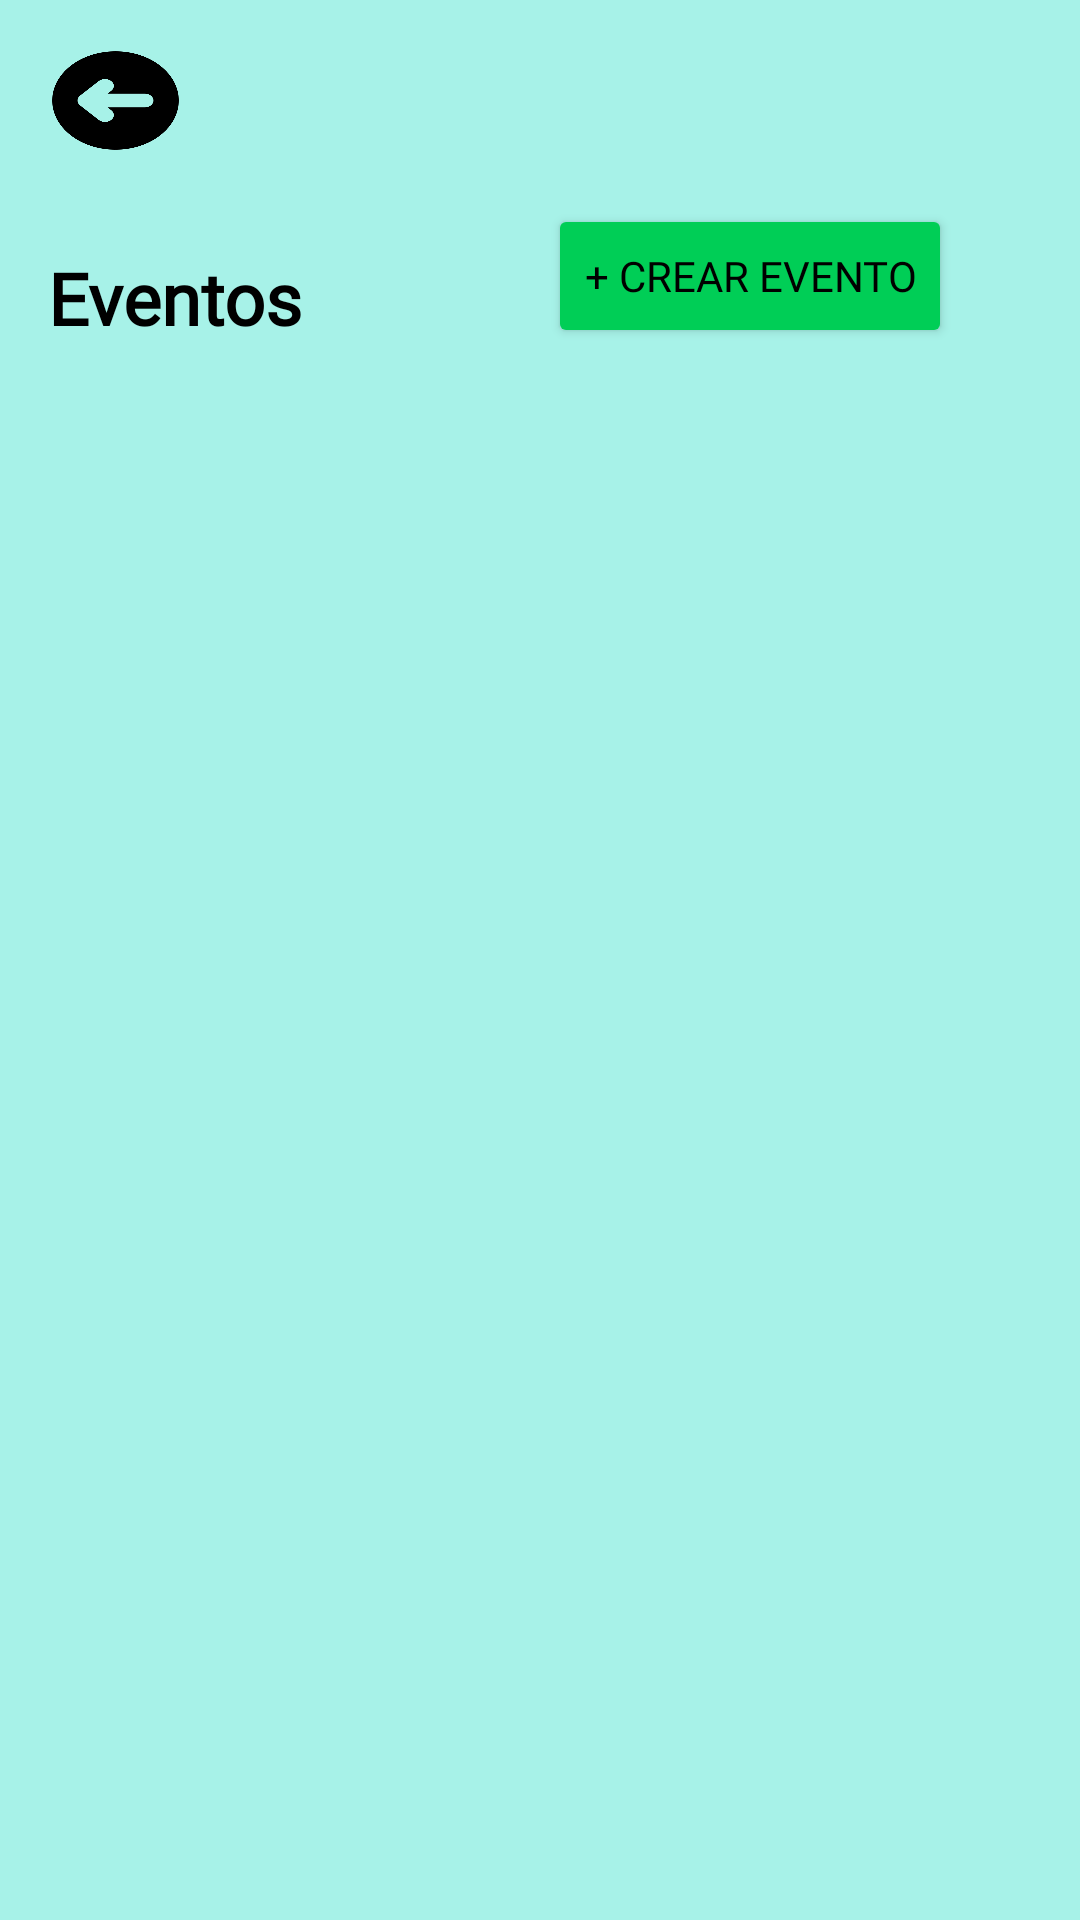

Locate icon controls on the screen. Image size 1080w x 1920h, boxes as region(x1, y1, x2, y2).
flechaizquierda: region(52, 51, 179, 150)
